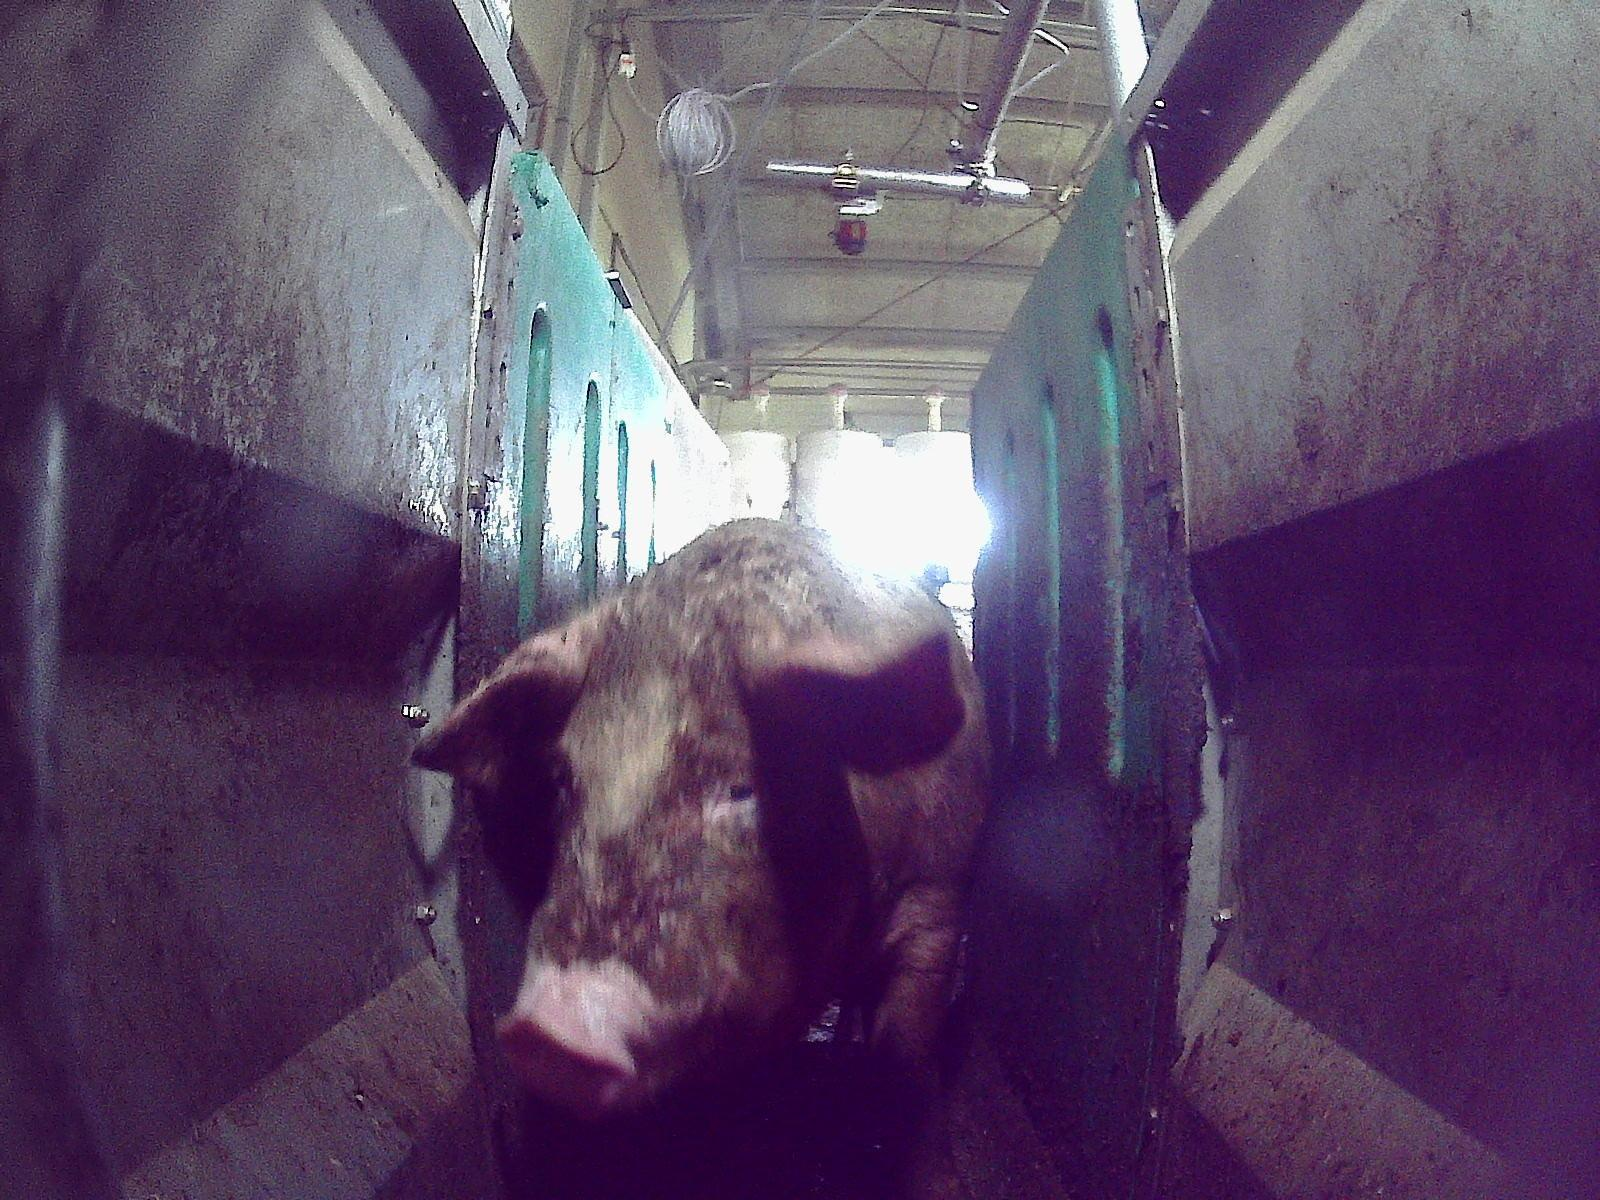Face: (490, 590, 868, 1117)
